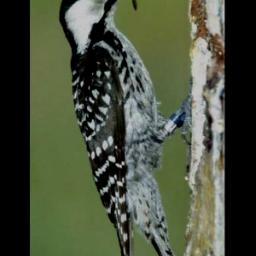Woodpecker: (60, 0, 193, 256)
